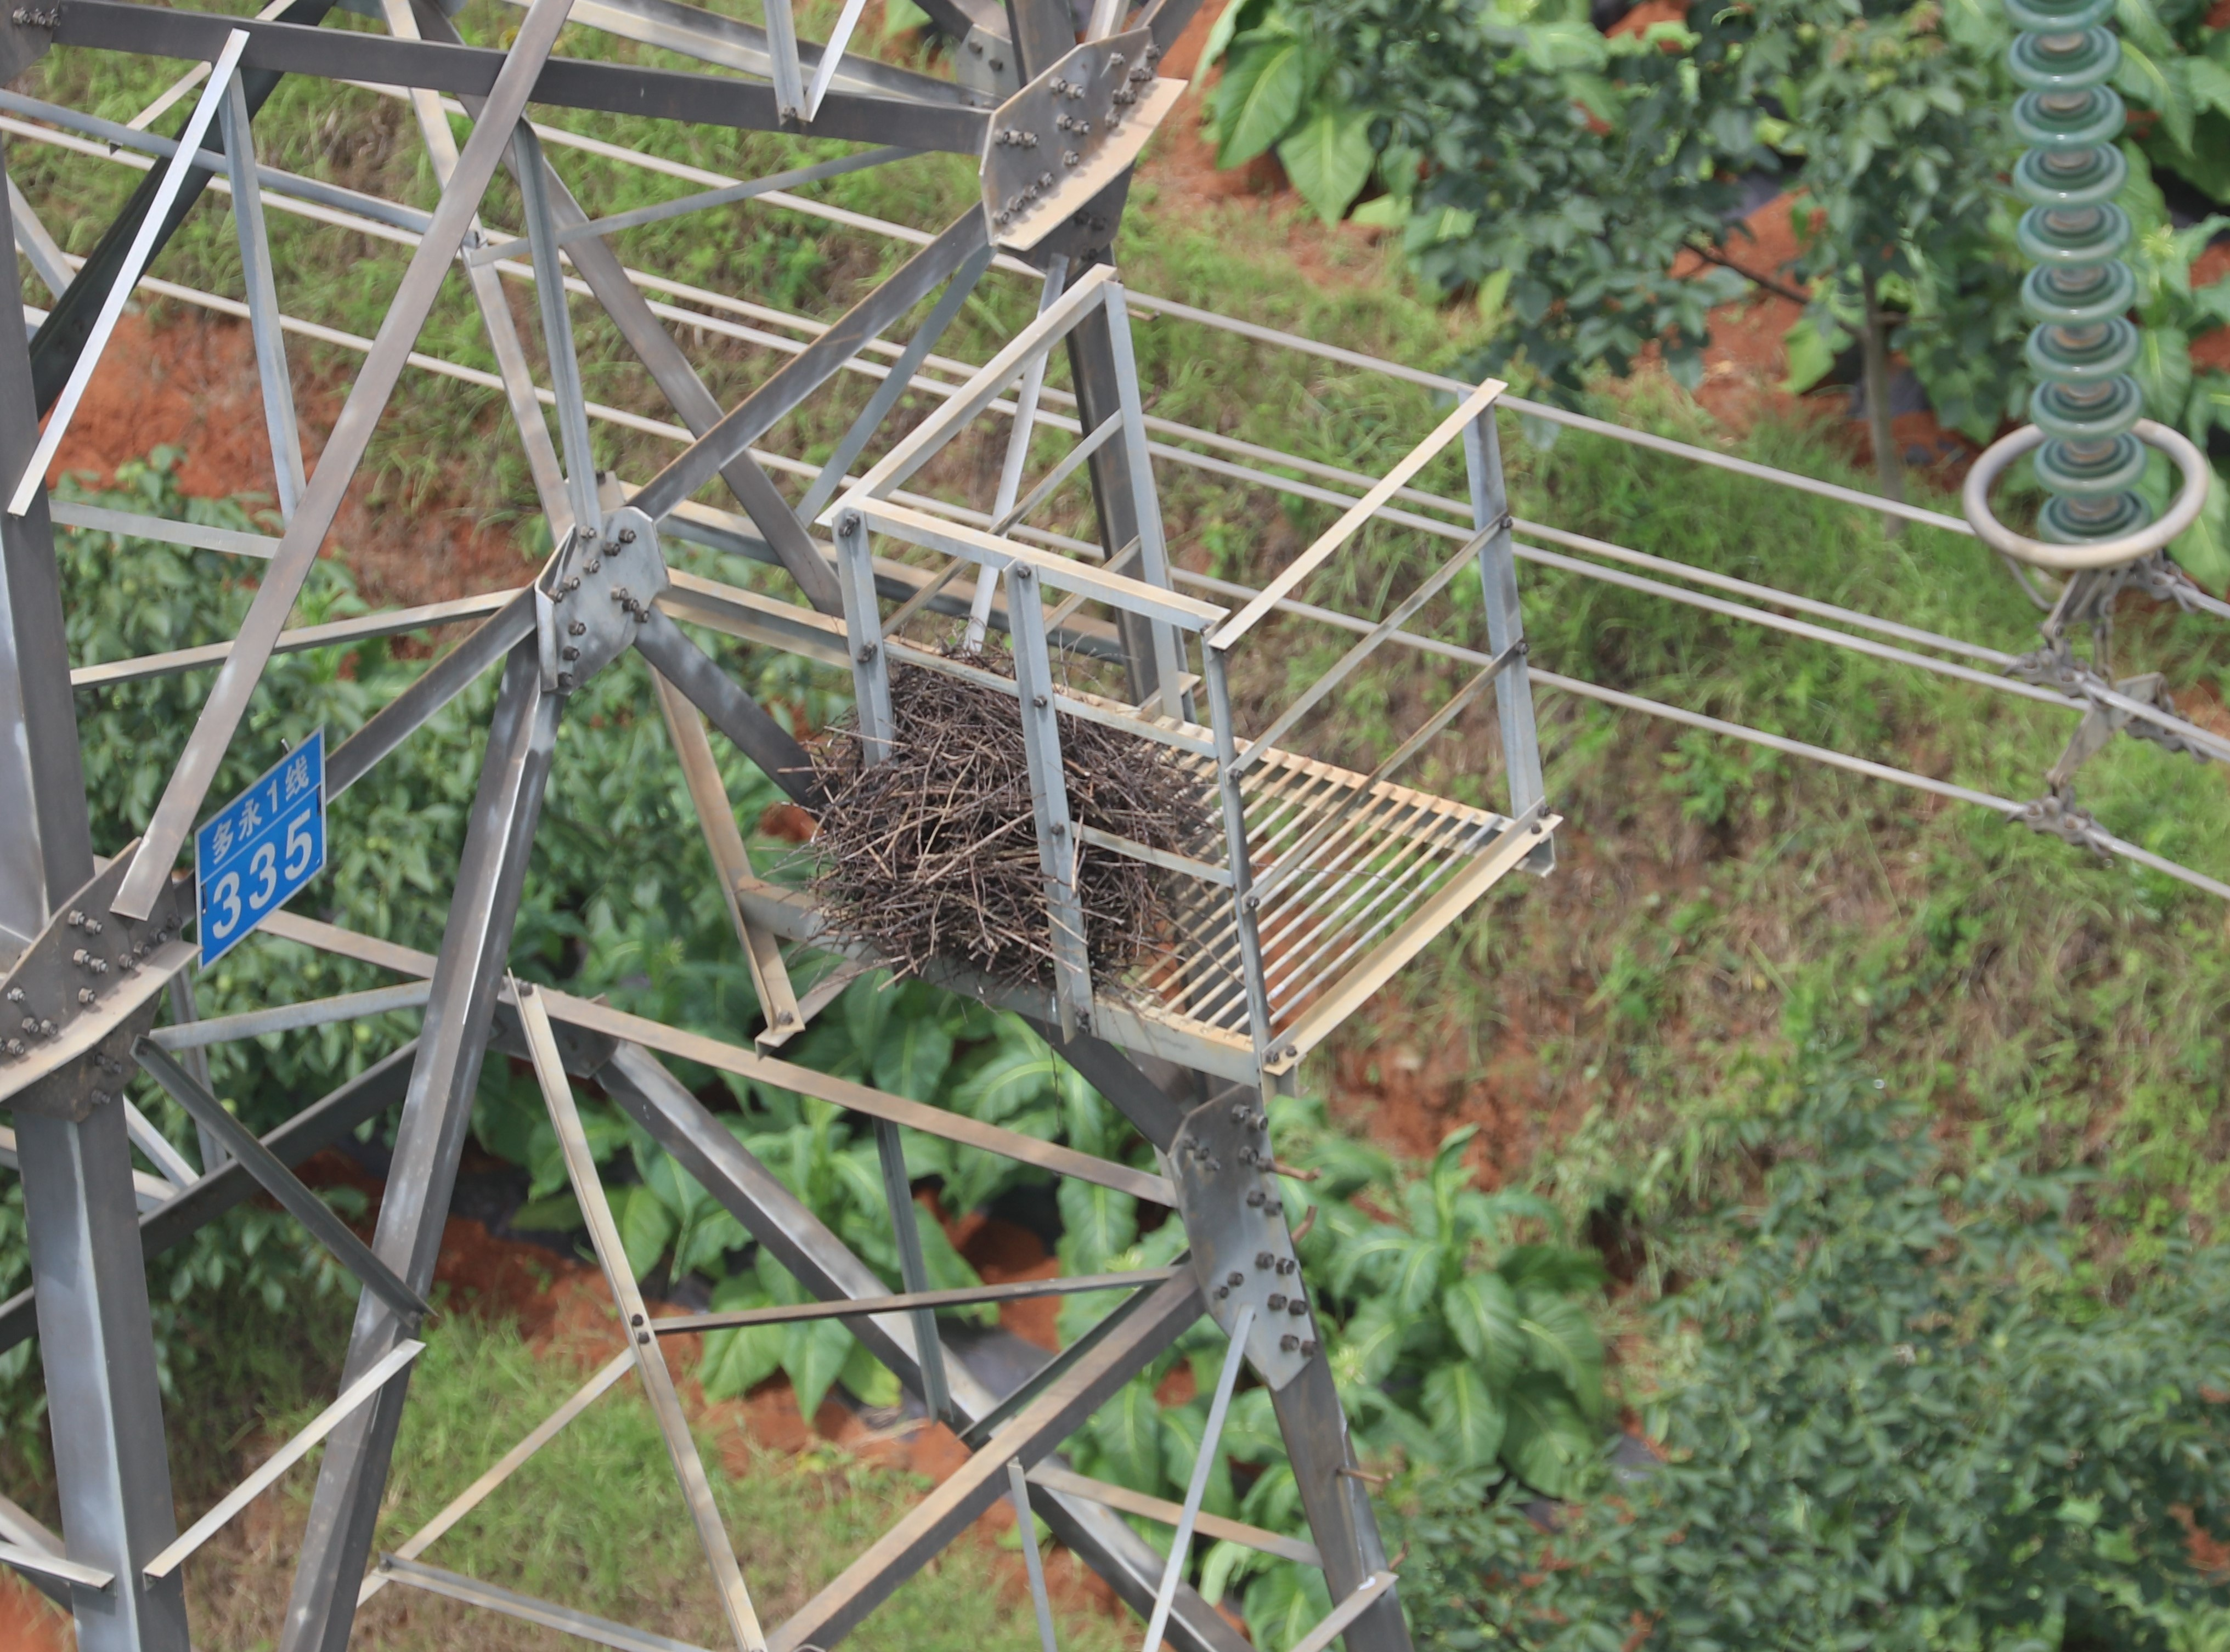niaowo: (798, 649, 1217, 1017)
